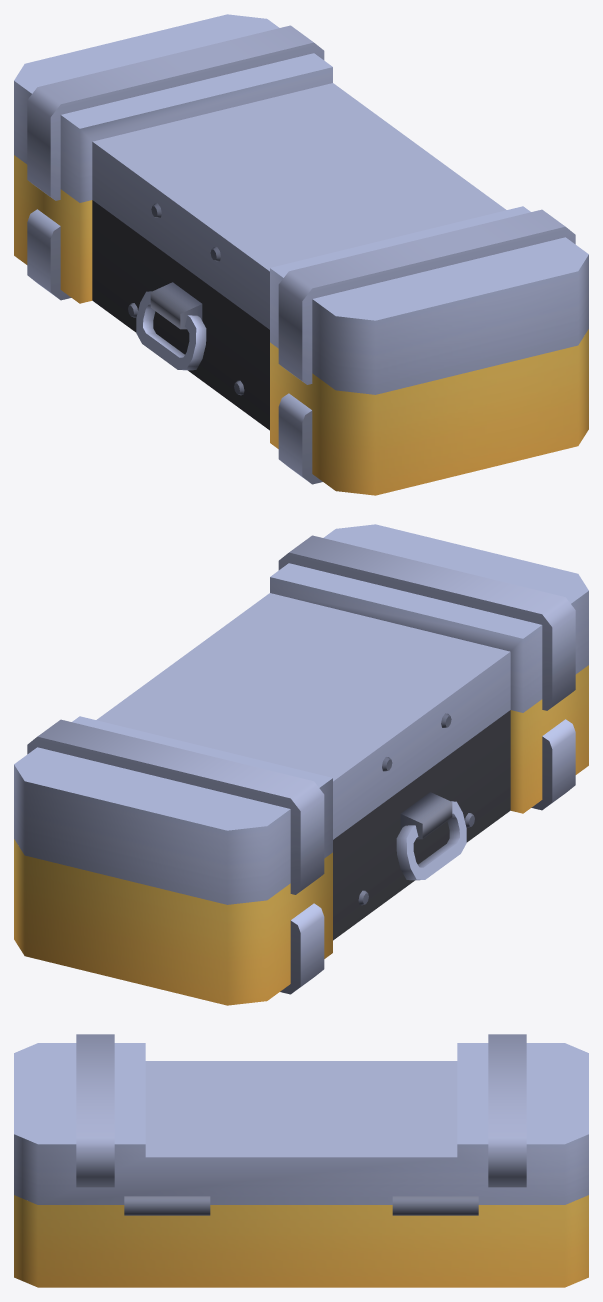
Rendered from kenney-blaster-crate-wide.glb.
3 views of the same model, one above another, from view 1: azimuth 30°, elevation 25°; view 2: azimuth 150°, elevation 25°; view 3: azimuth 270°, elevation 25° (orthographic). The views are drawn at different scales.
Visible parts, largest first — view 1: lid, crate-wide; view 2: lid, crate-wide; view 3: lid, crate-wide.
Part boxes in pixels (x1,y1,x2,y2): lid: [14, 14, 588, 394]; crate-wide: [14, 155, 588, 495]; lid: [14, 524, 588, 904]; crate-wide: [14, 665, 588, 1005]; lid: [14, 1034, 588, 1204]; crate-wide: [14, 1195, 588, 1287].
Bounding box in the file's own units: 0.5495 × 0.37 × 1.2.
1 material, 1 textured.
